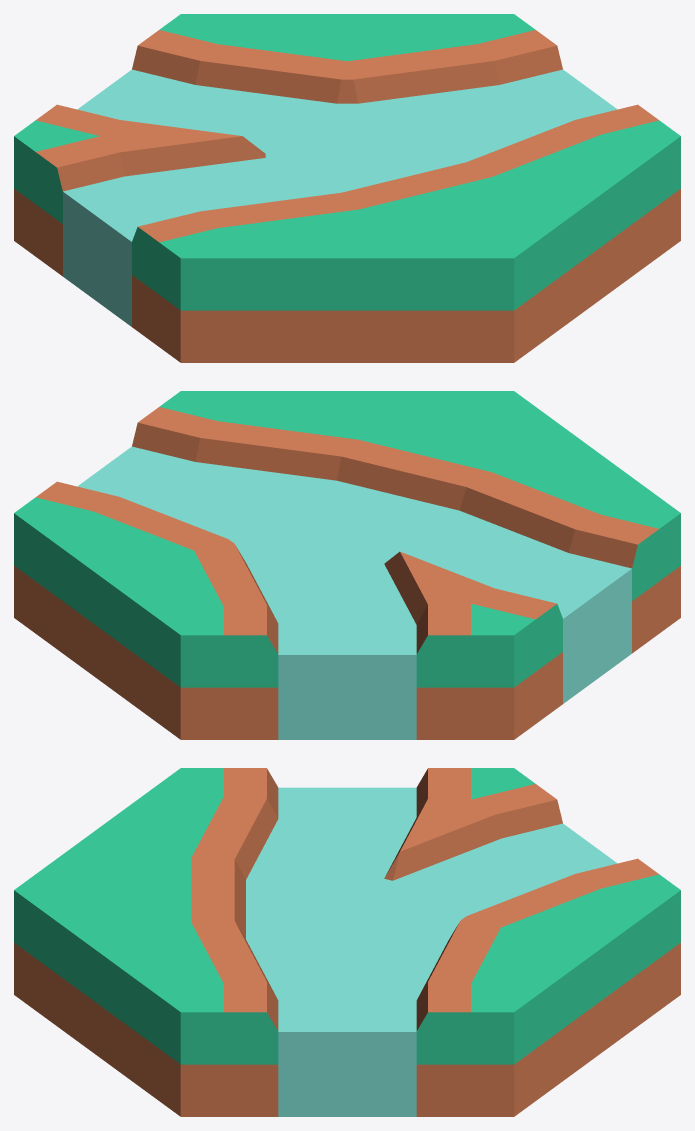
File: river_intersectionB.dae
3 renders of one model, top to bottom at view 1: azimuth 30°, elevation 25°; view 2: azimuth 150°, elevation 25°; view 3: azimuth 270°, elevation 25°, orthographic.
Visible parts, largest first — view 1: river_intersectionB; view 2: river_intersectionB; view 3: river_intersectionB.
Boxes of the visible parts, x1=… form: river_intersectionB: x1=14, y1=14, x2=680, y2=362; river_intersectionB: x1=14, y1=391, x2=680, y2=739; river_intersectionB: x1=14, y1=768, x2=680, y2=1116.
Bounding box in the file's own units: 1 × 0.2 × 1.15.
